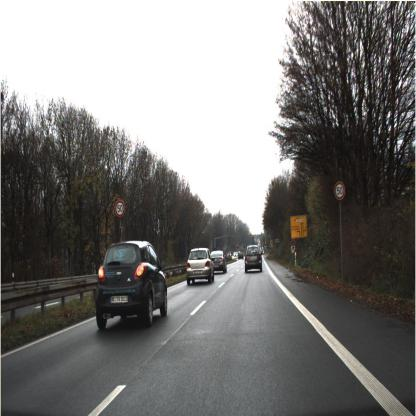prohibitory: (330, 177, 346, 202), (112, 199, 125, 218)
